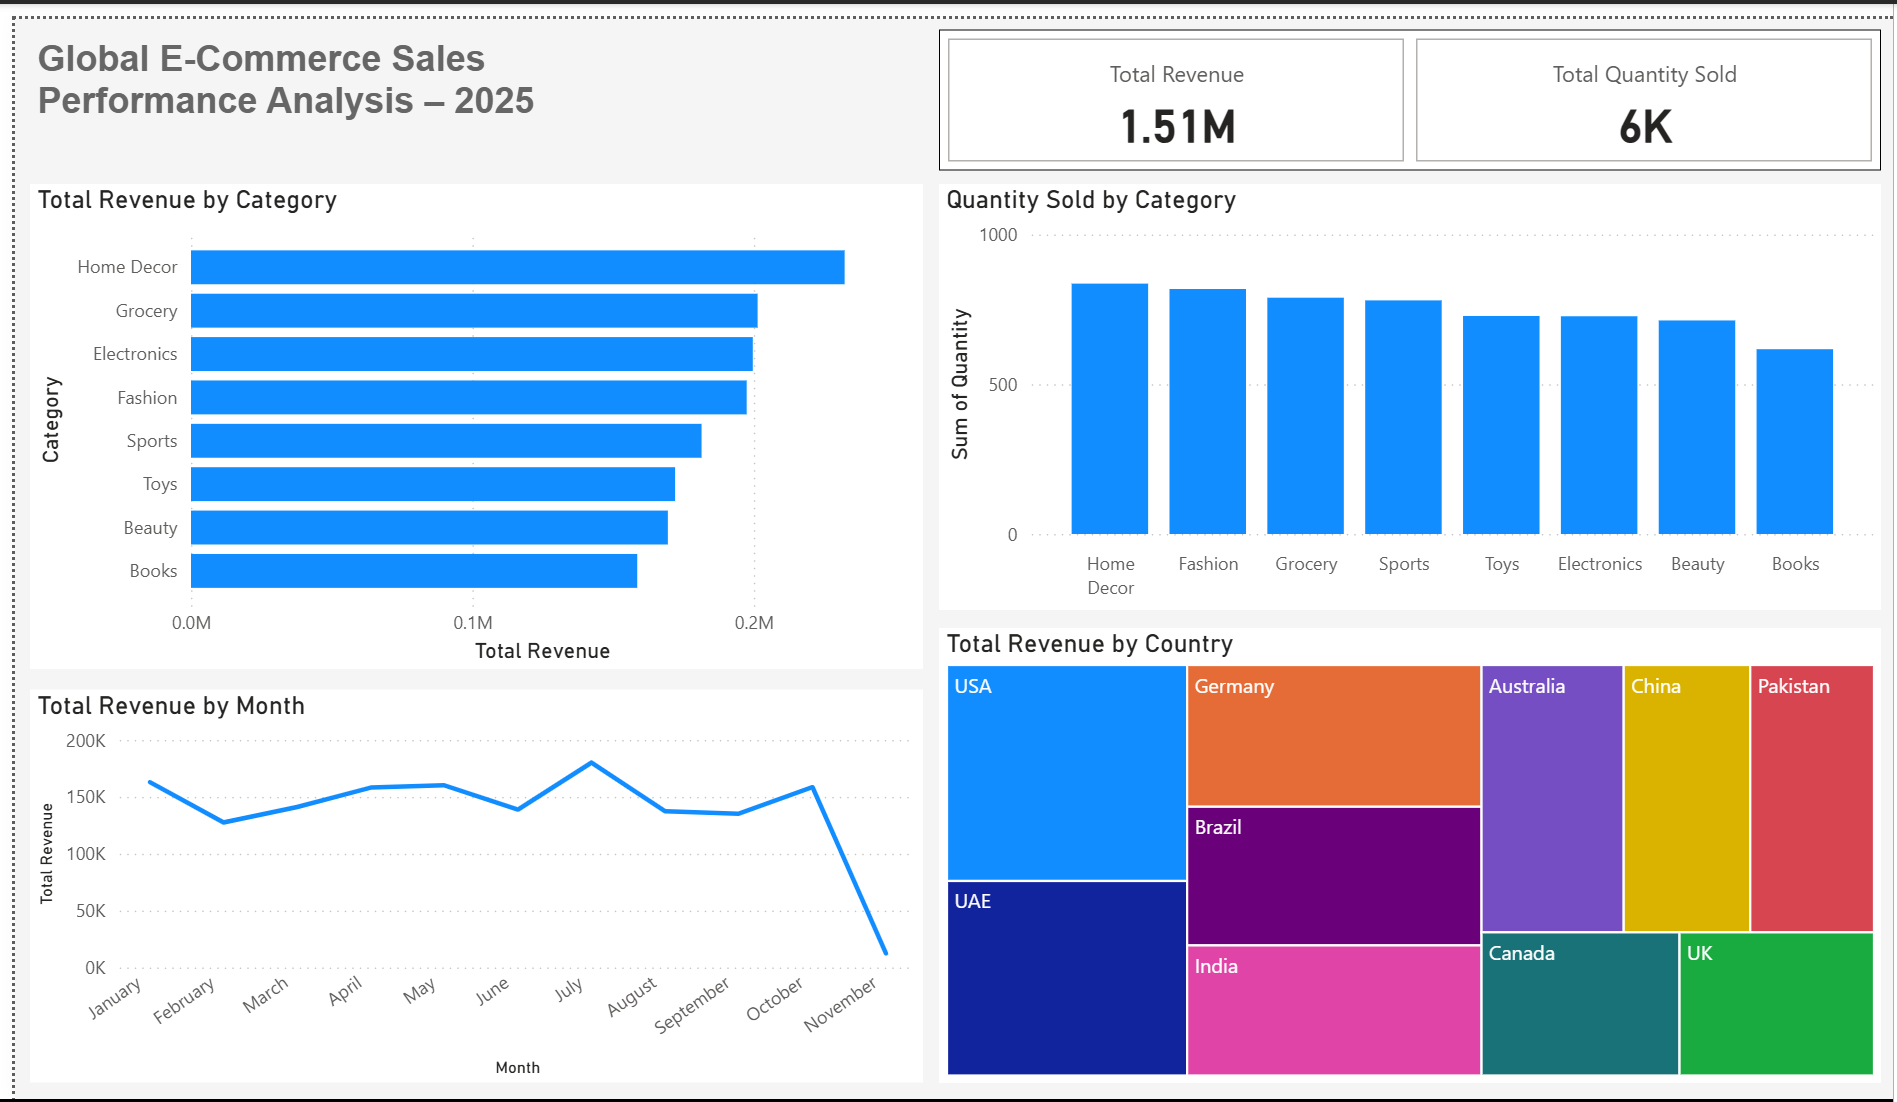

This screenshot's page, from the dashboard's own definition file:
{"tool":"powerbi","page":{"name":"Dashboard","canvas":[1280,720],"ordinal":0},"visuals":[{"type":"cardVisual","fields":{"Data":["global_ecommerce_sales.Total Revenue","global_ecommerce_sales.Total_Quantity_Sold"]},"box":[616,7,628,94],"z":0},{"type":"treemap","fields":{"Group":["global_ecommerce_sales.Country"],"Values":["global_ecommerce_sales.Total Revenue"]},"box":[616,406,628,303],"z":1000},{"type":"clusteredBarChart","fields":{"Y":["global_ecommerce_sales.Total Revenue"],"Category":["global_ecommerce_sales.Category"]},"box":[10,110,595,323],"z":2000},{"type":"lineChart","title":"Total Revenue by Month","fields":{"Category":["global_ecommerce_sales.Order_Date.Variation.Date Hierarchy.Month"],"Y":["global_ecommerce_sales.Total Revenue"]},"box":[10,447,595,262],"z":3000},{"type":"clusteredColumnChart","title":"Quantity Sold by Category","fields":{"Category":["global_ecommerce_sales.Category"],"Y":["Sum(global_ecommerce_sales.Quantity)"]},"box":[616,110,628,284],"z":4000},{"type":"textbox","box":[10,7,346,94],"z":5000}]}

Visuals, with their boxes on the page's 1280x720 design canvas (x1, y1, x2, y2). These are canvas units, not pixel positions in the 1897x1102 screenshot, which may show the page scaled, cropped or inside an application window:
cardVisual - global_ecommerce_sales.Total Revenue x global_ecommerce_sales.Total_Quantity_Sold: {"left": 616, "top": 7, "right": 1244, "bottom": 101}
treemap - global_ecommerce_sales.Country x global_ecommerce_sales.Total Revenue: {"left": 616, "top": 406, "right": 1244, "bottom": 709}
clusteredBarChart - global_ecommerce_sales.Total Revenue x global_ecommerce_sales.Category: {"left": 10, "top": 110, "right": 605, "bottom": 433}
"Total Revenue by Month" lineChart: {"left": 10, "top": 447, "right": 605, "bottom": 709}
"Quantity Sold by Category" clusteredColumnChart: {"left": 616, "top": 110, "right": 1244, "bottom": 394}
textbox: {"left": 10, "top": 7, "right": 356, "bottom": 101}
